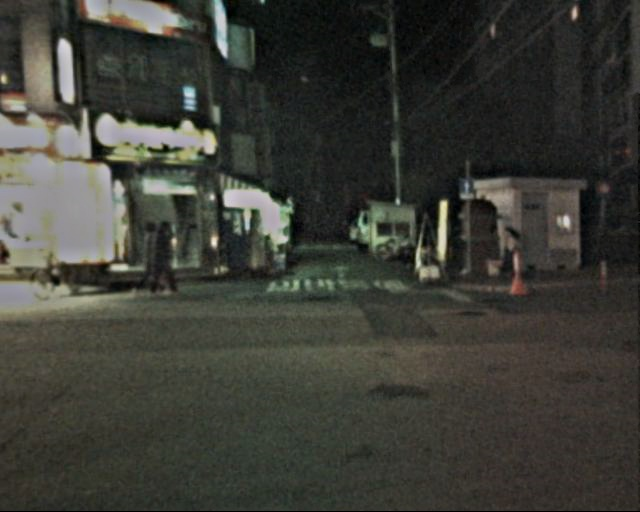person: (144, 217, 180, 299), (491, 221, 522, 287), (325, 211, 353, 247)
